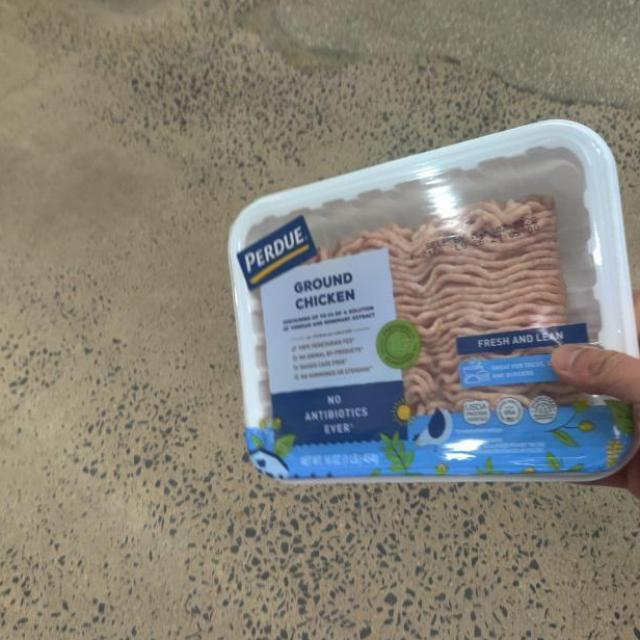Meat: (229, 160, 628, 488)
